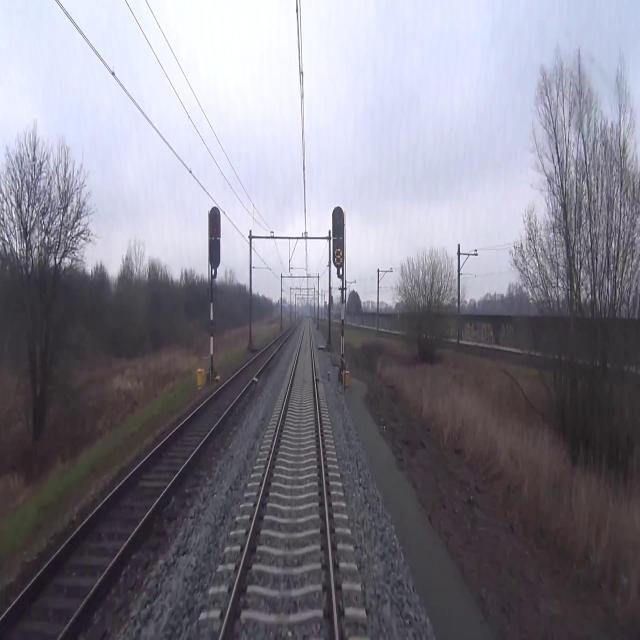rail-track: (0, 330, 289, 639), (223, 318, 334, 639)
